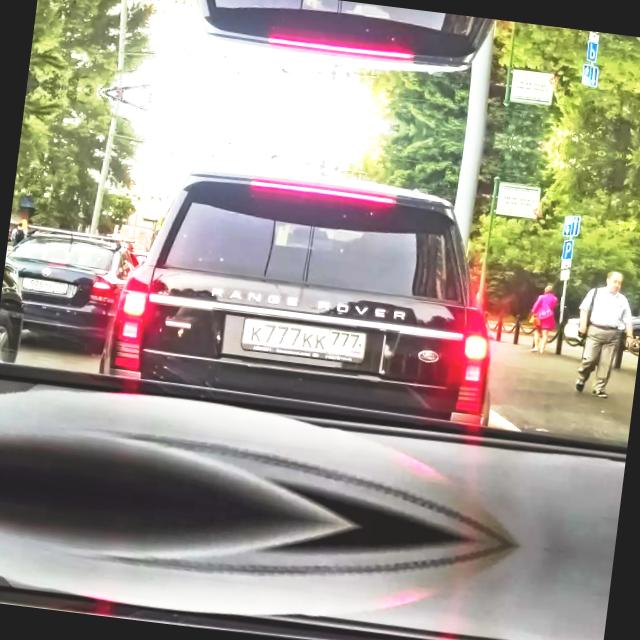citizen: (237, 314, 368, 366)
